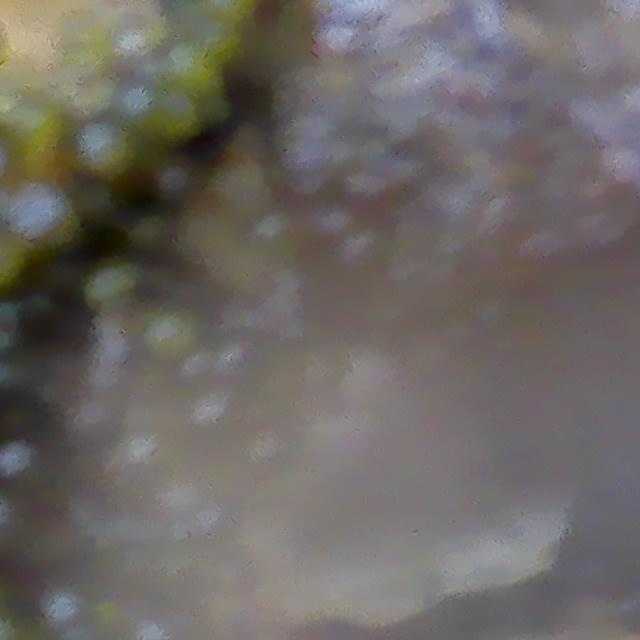SeaGrape: (78, 116, 134, 172), (163, 32, 218, 87), (152, 89, 204, 142)
